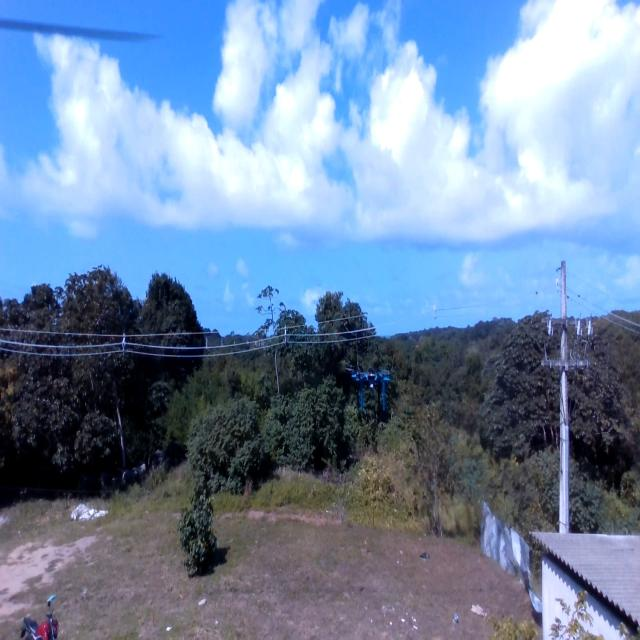-uav-: (343, 362, 400, 421)
